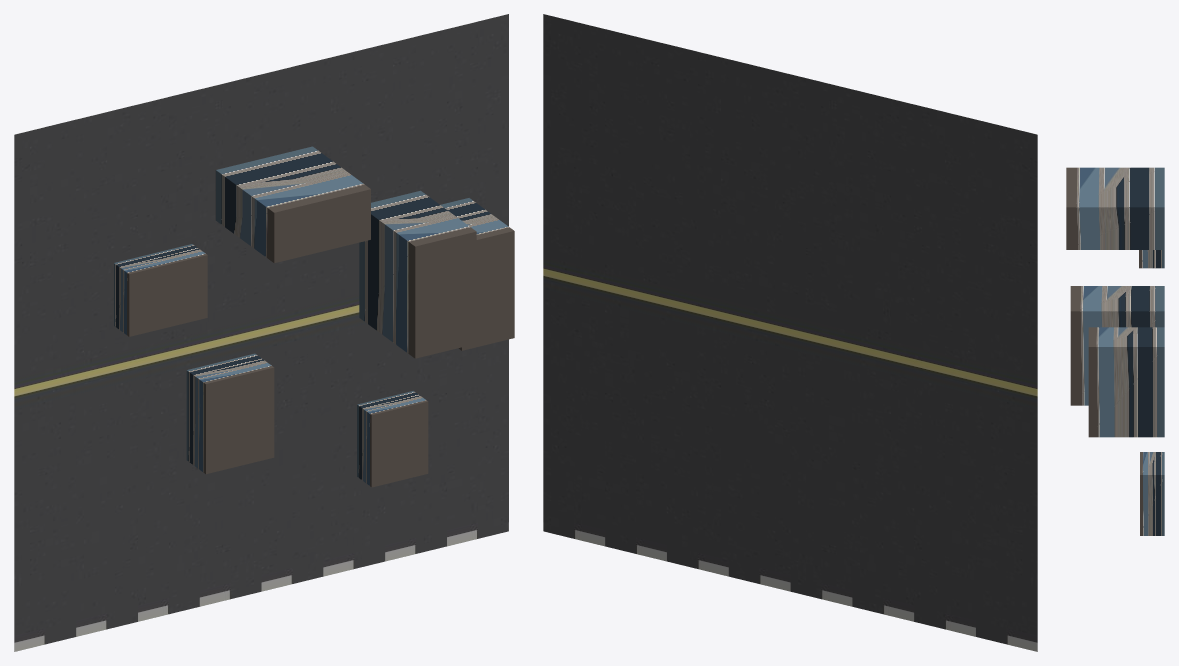
The picture shows the model from 3 angles, left to right: view 1: azimuth 30°, elevation 25°; view 2: azimuth 150°, elevation 25°; view 3: azimuth 270°, elevation 25°; orthographic projection. The views are drawn at different scales.
Bounding box in the file's own units: 119 × 119 × 24.4.
Materials: 2 (2 with a texture image).
